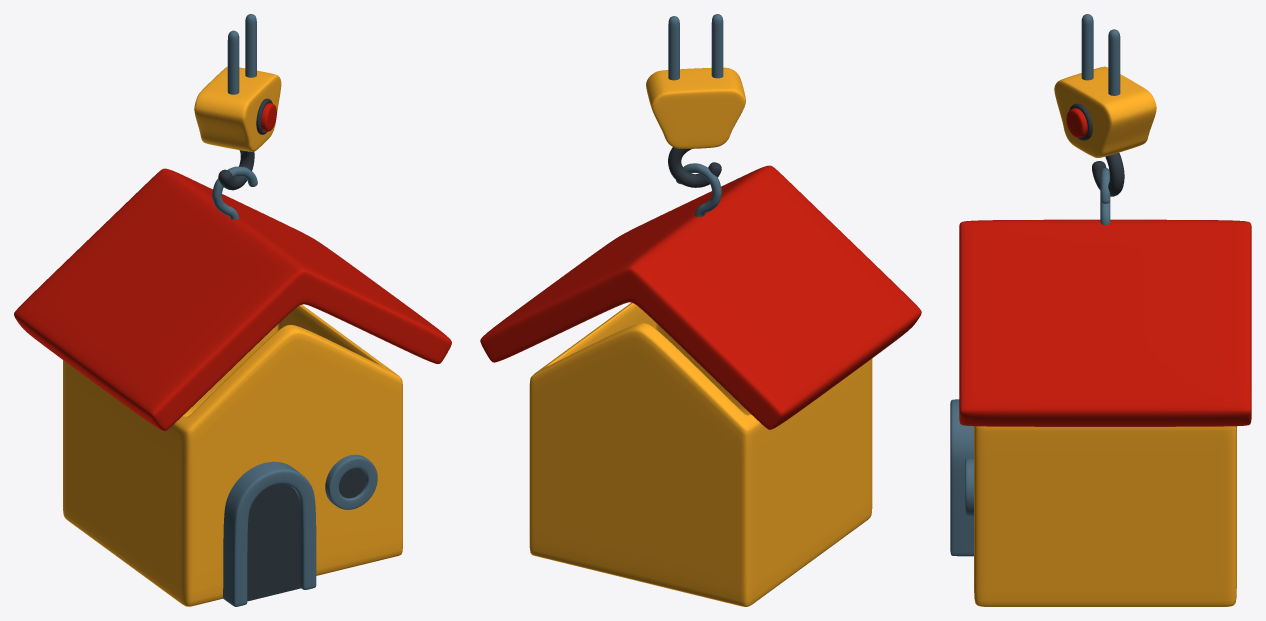
The picture shows the model from 3 angles, left to right: view 1: azimuth 30°, elevation 25°; view 2: azimuth 150°, elevation 25°; view 3: azimuth 270°, elevation 25°; orthographic projection. The views are drawn at different scales.
Visible parts, largest first — view 1: Cube.011, Plane.061, Plane.062, Plane.063, Plane.065, Cylinder.031, Plane.064, Circle.005, Circle.003, Circle.004; view 2: Cube.011, Plane.061, Plane.065, Plane.064, Circle.004, Circle.005; view 3: Plane.061, Cube.011, Plane.065, Plane.062, Plane.064, Circle.004, Circle.005, Cylinder.031, Cylinder.032.
Part boxes in pixels (bbox=[...]): Cube.011: bbox=[63, 304, 402, 606]; Plane.061: bbox=[14, 168, 451, 430]; Plane.062: bbox=[223, 461, 316, 606]; Plane.063: bbox=[247, 484, 300, 601]; Plane.065: bbox=[194, 66, 281, 151]; Cylinder.031: bbox=[325, 454, 377, 509]; Plane.064: bbox=[227, 14, 256, 94]; Circle.005: bbox=[212, 166, 257, 219]; Circle.003: bbox=[339, 468, 366, 498]; Circle.004: bbox=[218, 150, 254, 190]; Cube.011: bbox=[529, 302, 872, 606]; Plane.061: bbox=[480, 165, 921, 429]; Plane.065: bbox=[646, 67, 745, 148]; Plane.064: bbox=[668, 14, 723, 80]; Circle.004: bbox=[668, 147, 721, 187]; Circle.005: bbox=[676, 163, 721, 216]; Plane.061: bbox=[959, 219, 1251, 426]; Cube.011: bbox=[974, 426, 1236, 606]; Plane.065: bbox=[1054, 66, 1156, 157]; Plane.062: bbox=[950, 399, 973, 556]; Plane.064: bbox=[1081, 14, 1120, 95]; Circle.004: bbox=[1092, 152, 1124, 196]; Circle.005: bbox=[1100, 168, 1110, 225]; Cylinder.031: bbox=[965, 458, 973, 516]; Cylinder.032: bbox=[1066, 108, 1087, 137].
Bounding box in the file's own units: 1.17 × 1.91 × 0.9733.
